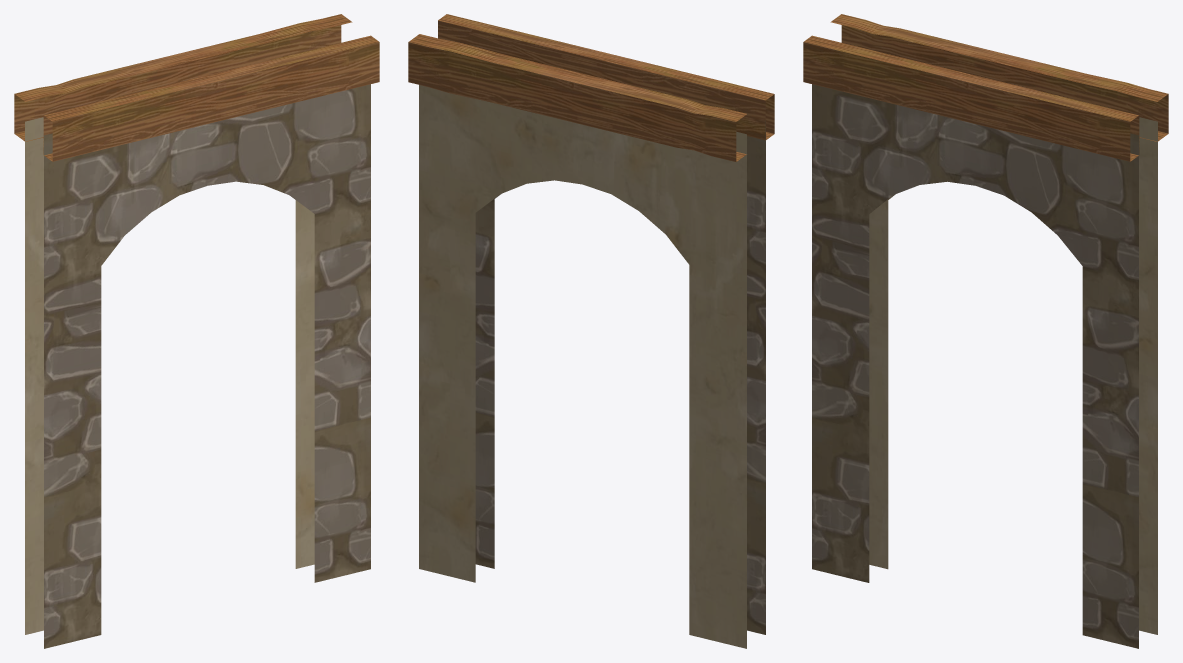
File: quaternius-gate-wall.glb
The picture shows the model from 3 angles, left to right: view 1: azimuth 30°, elevation 25°; view 2: azimuth 150°, elevation 25°; view 3: azimuth 330°, elevation 25°; orthographic projection.
Visible parts, largest first — view 1: Wall_UnevenBrick_Door_Round; view 2: Wall_UnevenBrick_Door_Round; view 3: Wall_UnevenBrick_Door_Round.
Boxes of the visible parts, x1=… form: Wall_UnevenBrick_Door_Round: x1=14, y1=14, x2=379, y2=648; Wall_UnevenBrick_Door_Round: x1=408, y1=14, x2=774, y2=648; Wall_UnevenBrick_Door_Round: x1=803, y1=14, x2=1168, y2=648.
Bounding box in the file's own units: 2 × 3.12 × 0.4065.
Materials: 3 (3 with a texture image).
